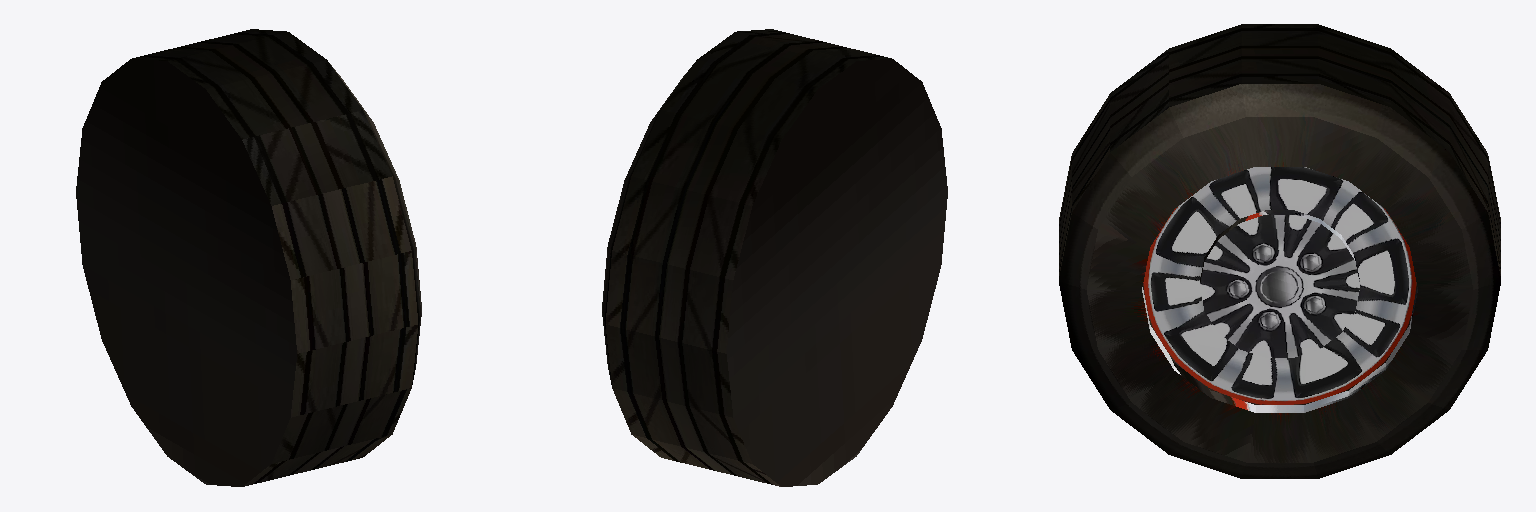
3 views of the same model, side by side, from view 1: azimuth 30°, elevation 25°; view 2: azimuth 150°, elevation 25°; view 3: azimuth 270°, elevation 25° (orthographic).
Visible parts, largest first — view 1: WheelR-F; view 2: WheelR-F; view 3: WheelR-F.
Boxes of the visible parts, x1=… form: WheelR-F: x1=76, y1=29, x2=421, y2=486; WheelR-F: x1=602, y1=29, x2=947, y2=486; WheelR-F: x1=1059, y1=24, x2=1500, y2=478.
Bounding box in the file's own units: 0.5188 × 1.41 × 1.43.
Materials: 1 (1 with a texture image).